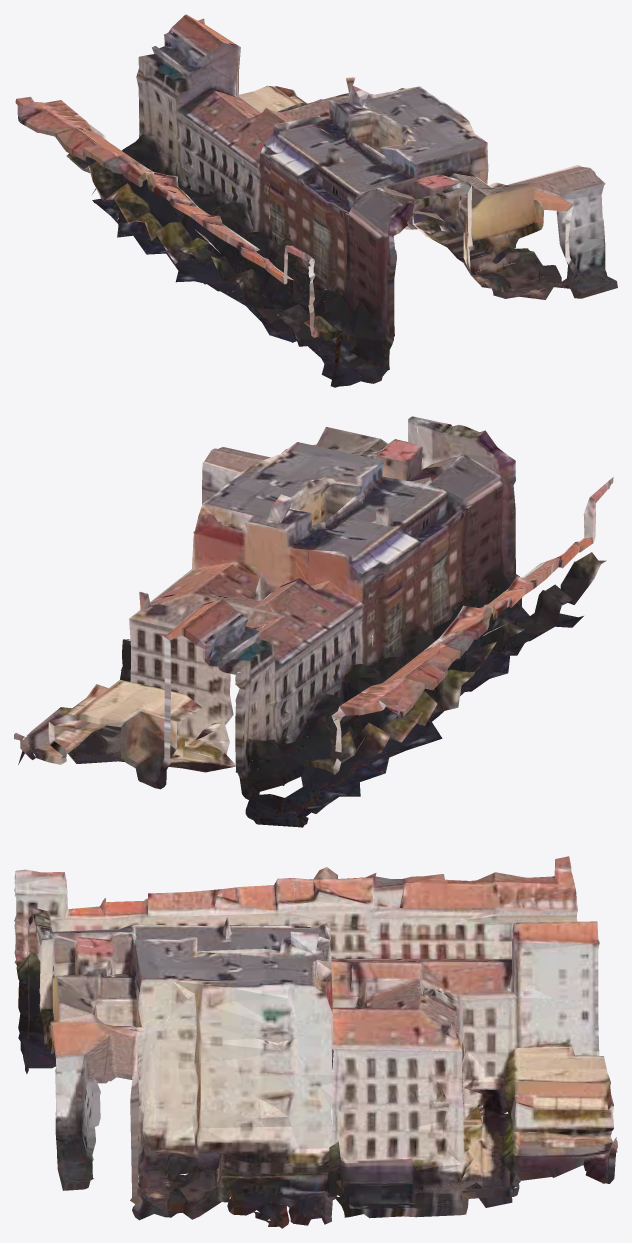
The picture shows the model from 3 angles, top to bottom: view 1: azimuth 30°, elevation 25°; view 2: azimuth 150°, elevation 25°; view 3: azimuth 270°, elevation 25°; orthographic projection. The views are drawn at different scales.
Visible parts, largest first — view 1: Mesh_0; view 2: Mesh_0; view 3: Mesh_0.
Part boxes in pixels (x1,y1,x2,y2): Mesh_0: (15,14,617,387); Mesh_0: (14,416,613,827); Mesh_0: (14,856,617,1228).
Size of the model in its own units: 66.88 by 33.73 by 82.65.
Materials: 2 (2 with a texture image).
